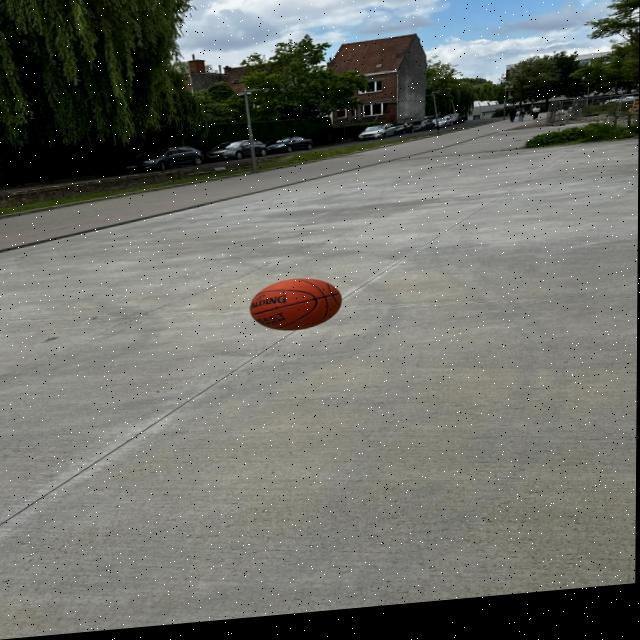Basketball: (250, 275, 343, 336)
